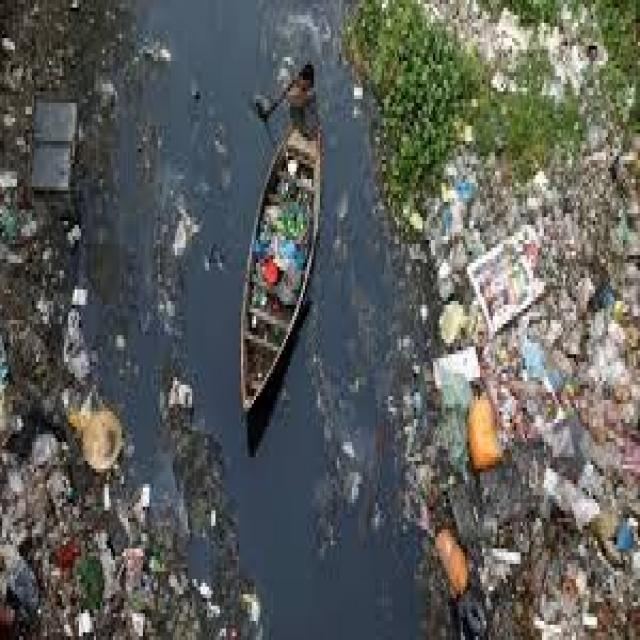heap: (462, 157, 640, 462)
